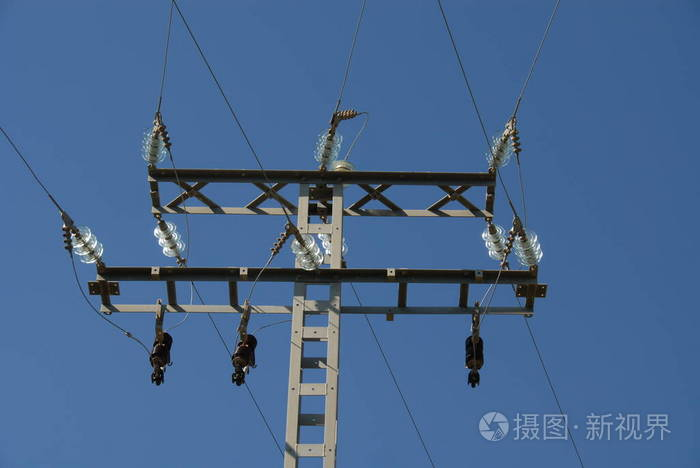insulator: (63, 226, 105, 265), (511, 229, 545, 268), (290, 236, 323, 274), (154, 222, 188, 258), (480, 225, 509, 261)
